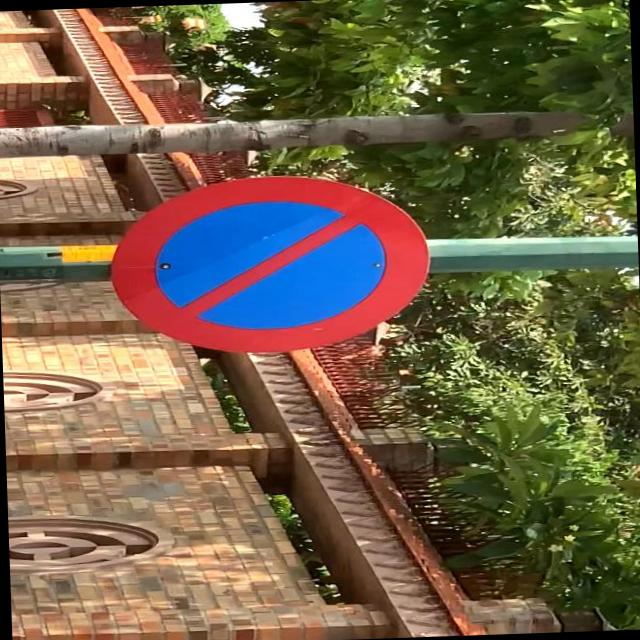P-131a: (108, 170, 430, 359)
